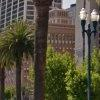Palm tree: (7, 11, 37, 99)
